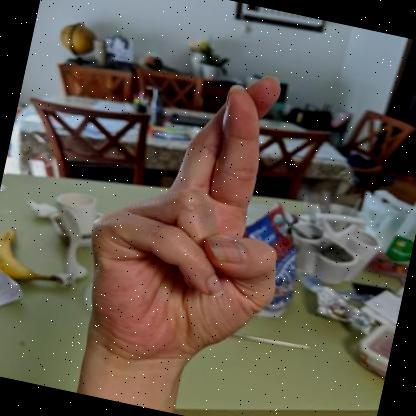R: (84, 76, 292, 375)
